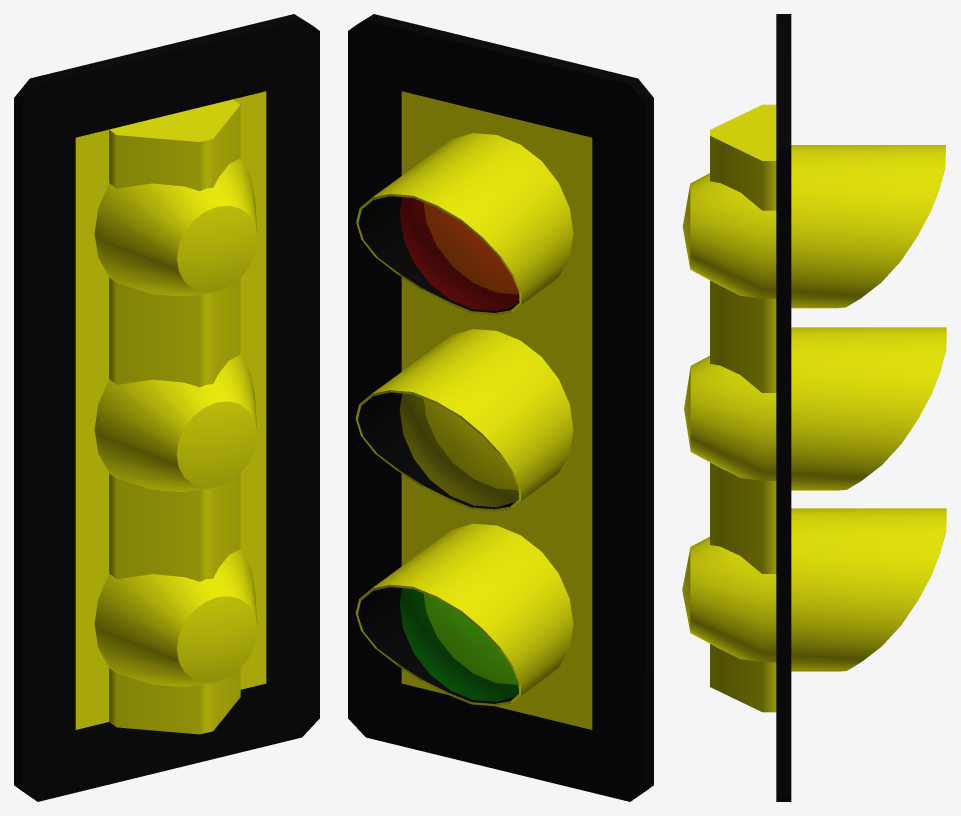
File: Streetlight.fbx
The picture shows the model from 3 angles, left to right: view 1: azimuth 30°, elevation 25°; view 2: azimuth 150°, elevation 25°; view 3: azimuth 270°, elevation 25°; orthographic projection. The views are drawn at different scales.
Visible parts, largest first — view 1: TrafficLightNew, NewHousing1, NewHousing3, NewHousing2; view 2: TrafficLightNew, NewHousing3, NewHousing2, NewHousing1, Red_Light_1, Yellow_Light_1, Green_Light_1; view 3: TrafficLightNew, NewHousing3, NewHousing2, NewHousing1.
Part boxes in pixels (box(x1,y1,x2,y2)): TrafficLightNew: box(14, 14, 319, 801); NewHousing1: box(94, 158, 257, 296); NewHousing3: box(94, 549, 257, 686); NewHousing2: box(94, 354, 257, 492); TrafficLightNew: box(348, 14, 653, 801); NewHousing3: box(355, 523, 573, 706); NewHousing2: box(355, 329, 573, 511); NewHousing1: box(356, 133, 573, 315); Red_Light_1: box(400, 197, 519, 311); Yellow_Light_1: box(399, 393, 518, 507); Green_Light_1: box(399, 588, 518, 701); TrafficLightNew: box(710, 14, 791, 801); NewHousing3: box(682, 508, 946, 671); NewHousing2: box(684, 327, 946, 490); NewHousing1: box(682, 145, 945, 308).
Bounding box in the file's own units: 3.89 × 8.95 × 3.21.
